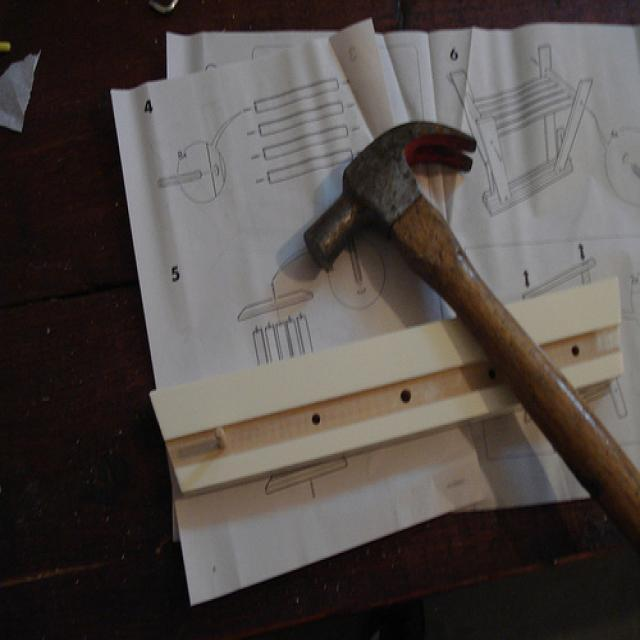hammer: (297, 114, 640, 555)
